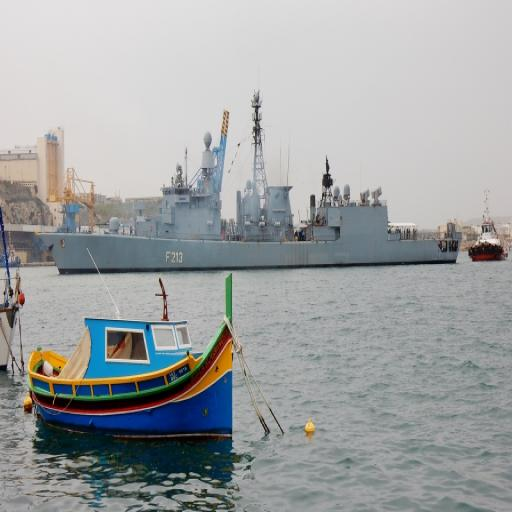Fragata: (31, 87, 468, 290)
